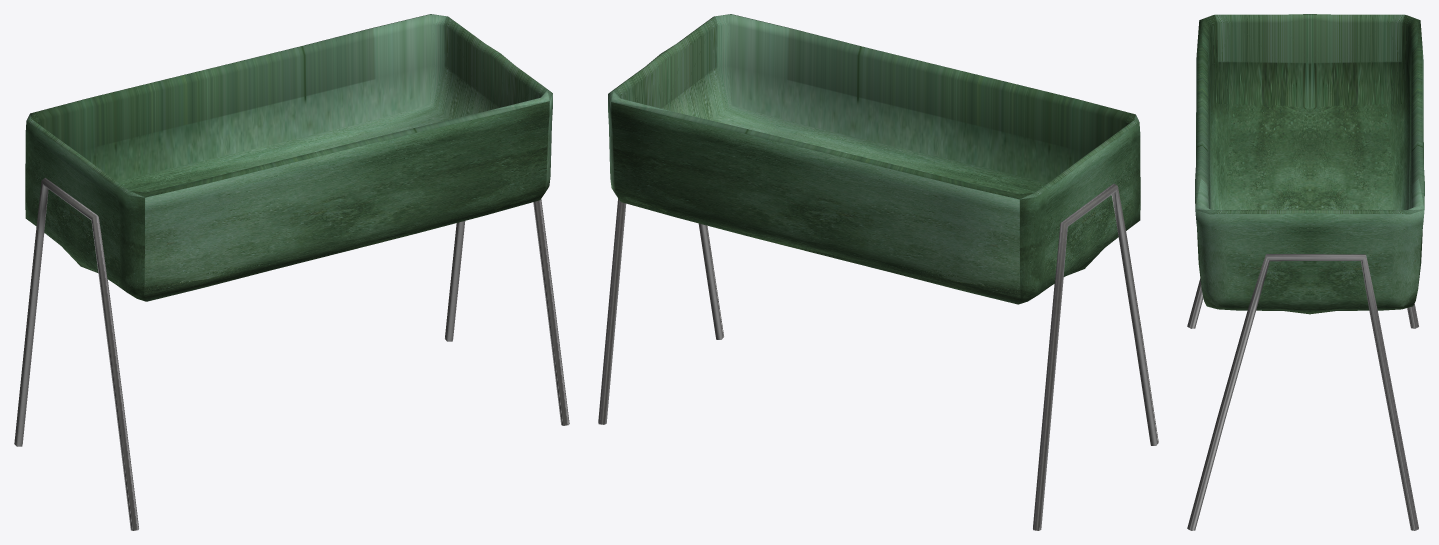
File: BBQ.FBX
The picture shows the model from 3 angles, left to right: view 1: azimuth 30°, elevation 25°; view 2: azimuth 150°, elevation 25°; view 3: azimuth 270°, elevation 25°; orthographic projection. The views are drawn at different scales.
Visible parts, largest first — view 1: Box001, Cylinder002, Cylinder001; view 2: Box001, Cylinder002, Cylinder001; view 3: Box001, Cylinder001, Cylinder002.
Boxes of the visible parts, x1,y1,x2,y2 form: Box001: [25, 14, 552, 301]; Cylinder002: [14, 178, 138, 530]; Cylinder001: [445, 199, 569, 425]; Box001: [608, 14, 1140, 304]; Cylinder002: [1033, 183, 1158, 530]; Cylinder001: [598, 198, 723, 424]; Box001: [1195, 14, 1424, 314]; Cylinder001: [1187, 254, 1418, 530]; Cylinder002: [1187, 279, 1418, 328].
Bounding box in the file's own units: 91.72 × 65.95 × 44.85.
2 materials, 2 textured.
